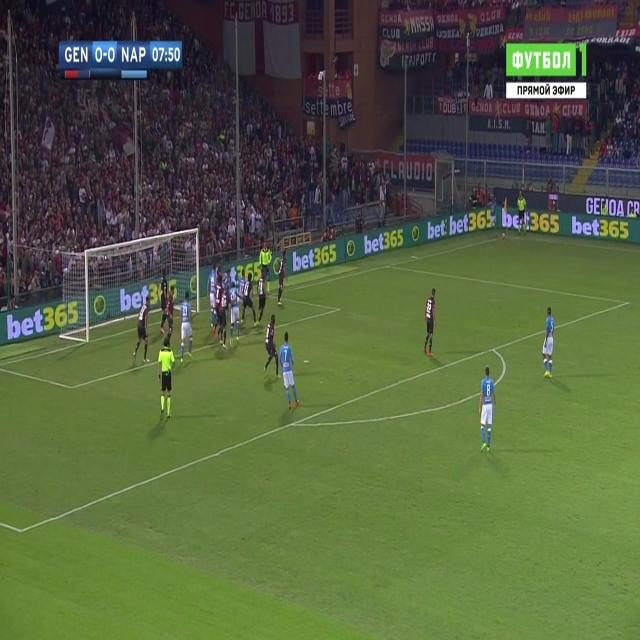Ball: (499, 229, 507, 241)
Goalkeeper: (158, 264, 170, 338)
Player: (279, 332, 301, 414), (478, 365, 498, 454), (129, 296, 152, 369), (177, 288, 195, 368), (540, 306, 557, 384), (263, 313, 281, 382), (422, 284, 438, 360), (240, 270, 260, 330), (275, 246, 290, 308), (228, 281, 242, 347), (205, 262, 216, 332), (166, 285, 177, 346), (256, 274, 268, 328), (486, 193, 499, 233), (222, 282, 229, 351)
Referee: (157, 336, 178, 424), (257, 240, 274, 281), (516, 187, 530, 235)
